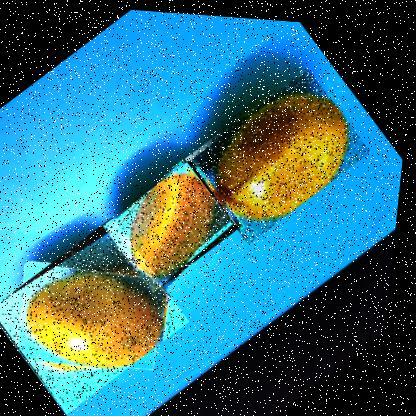orange_rotten: (0, 206, 204, 415), (180, 54, 379, 245), (100, 147, 252, 294)
